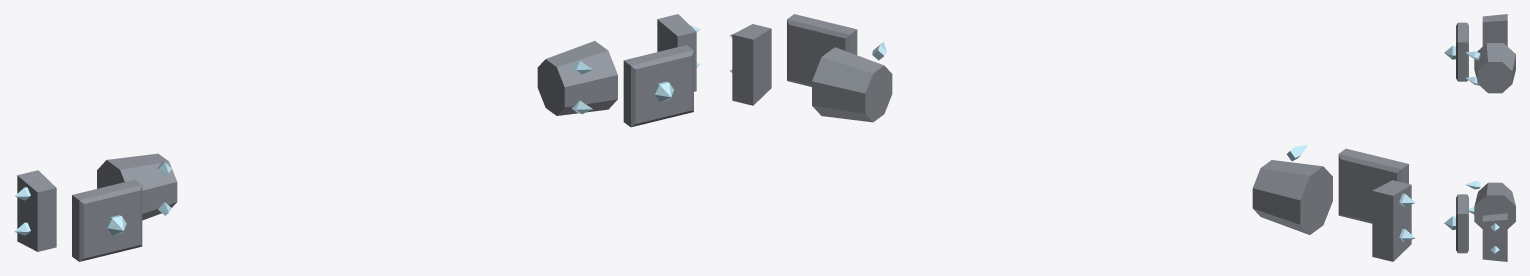
Rendered from stormfists.glb.
3 views of the same model, side by side, from view 1: azimuth 30°, elevation 25°; view 2: azimuth 150°, elevation 25°; view 3: azimuth 270°, elevation 25° (orthographic). The views are drawn at different scales.
Visible parts, largest first — view 1: Fist1R, Fist1L, LowerArmL, LowerArmR, Fist2R, Fist2L; view 2: LowerArmR, LowerArmL, Fist1R, Fist1L, Fist2R, Fist2L; view 3: LowerArmR, LowerArmL, Fist2L, Fist1L, Fist1R, Fist2R.
Boxes of the visible parts, x1,y1,x2,y2 form: Fist1R: (72,179,142,261); Fist1L: (623,45,693,127); LowerArmL: (537,41,617,115); LowerArmR: (97,153,177,220); Fist2R: (14,170,56,251); Fist2L: (657,14,700,91); LowerArmR: (1252,145,1332,234); LowerArmL: (812,42,892,122); Fist1R: (1338,148,1408,223); Fist1L: (787,14,857,86); Fist2R: (1372,180,1415,261); Fist2L: (729,24,771,105); LowerArmR: (1465,43,1515,93); LowerArmL: (1465,181,1515,228); Fist2L: (1482,213,1507,261); Fist1L: (1444,194,1468,253); Fist1R: (1444,22,1468,81); Fist2R: (1482,14,1507,46).
Bounding box in the file's own units: 3.26 × 0.305 × 0.464.
